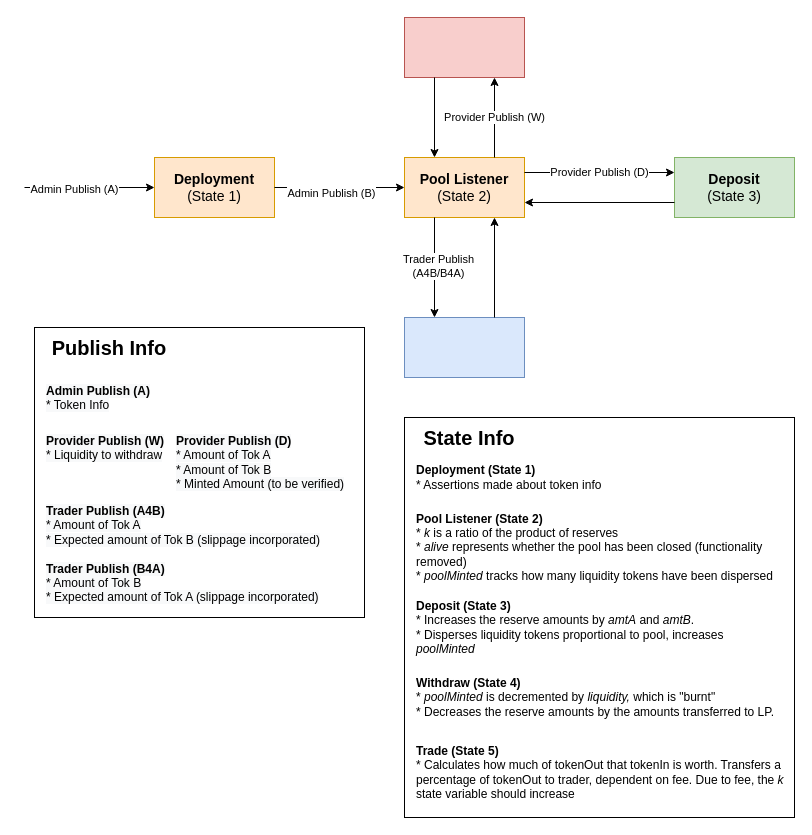
Some shapes in this 812 by 835 pixel diagram are drawn without their labels. Each missing label, with the centre of its shape:
Trade (State 5): the point at 464,347
Withdraw (State 4): the point at 464,47
